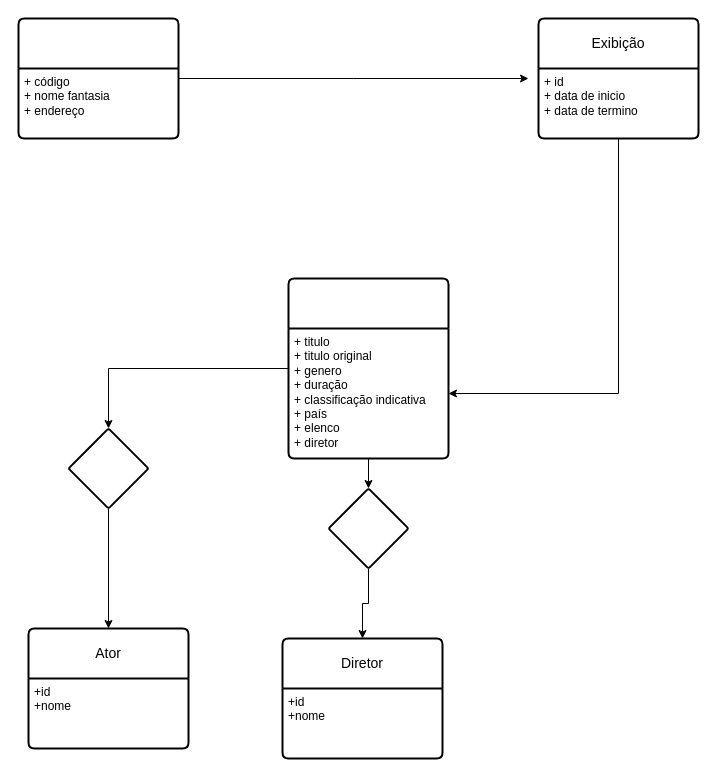
This 716x776 diagram has some shape labels left out. The box of each missing label's shape, as (x1, y1, x2, y2) in pixels:
Cinema: (17, 17, 179, 139)
Filme: (287, 277, 449, 459)
